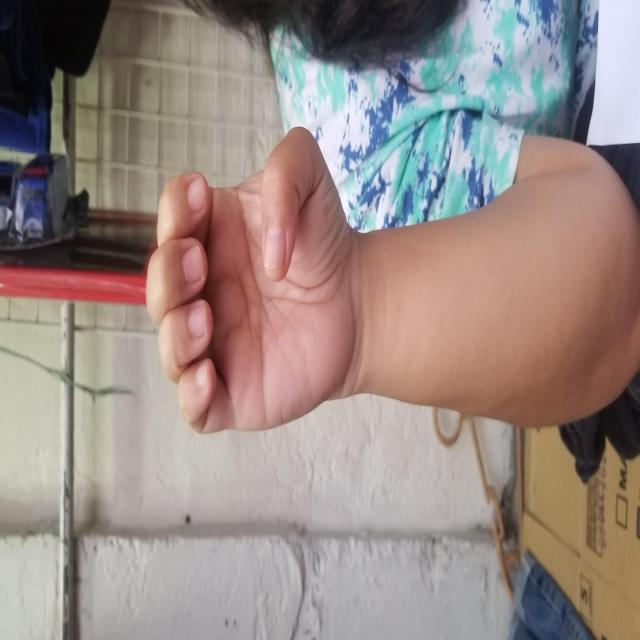E: (205, 145, 514, 352)
